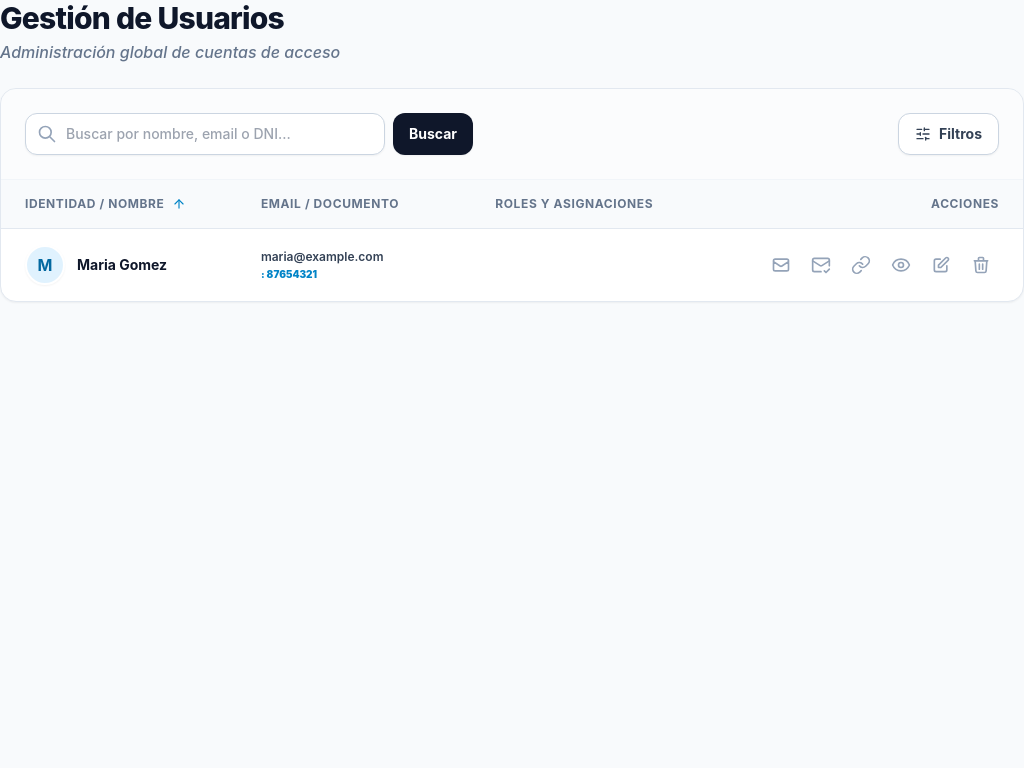
Test: UserManagement › permite editar los campos DNI y Email cuando el usuario NO tiene persona vinculada
This screenshot has width=1024, height=768.
Expected: the text "Maria Gomez" is shown, [77,255,167,275]
Click the button titled "Editar Información" at (941, 265), box [923,247,959,283]
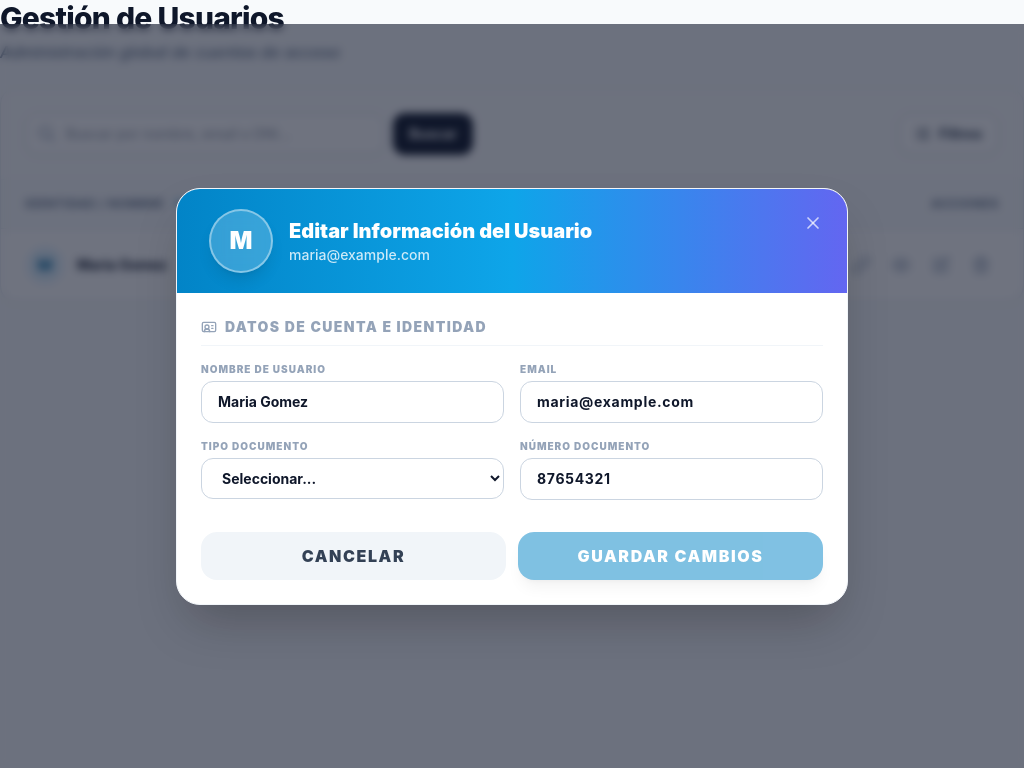
Result: the 2nd field showing "maria@example.com" is enabled at [520,380,823,422]
Result: the field showing "87654321" below "Número Documento" is enabled at [520,458,823,500]
